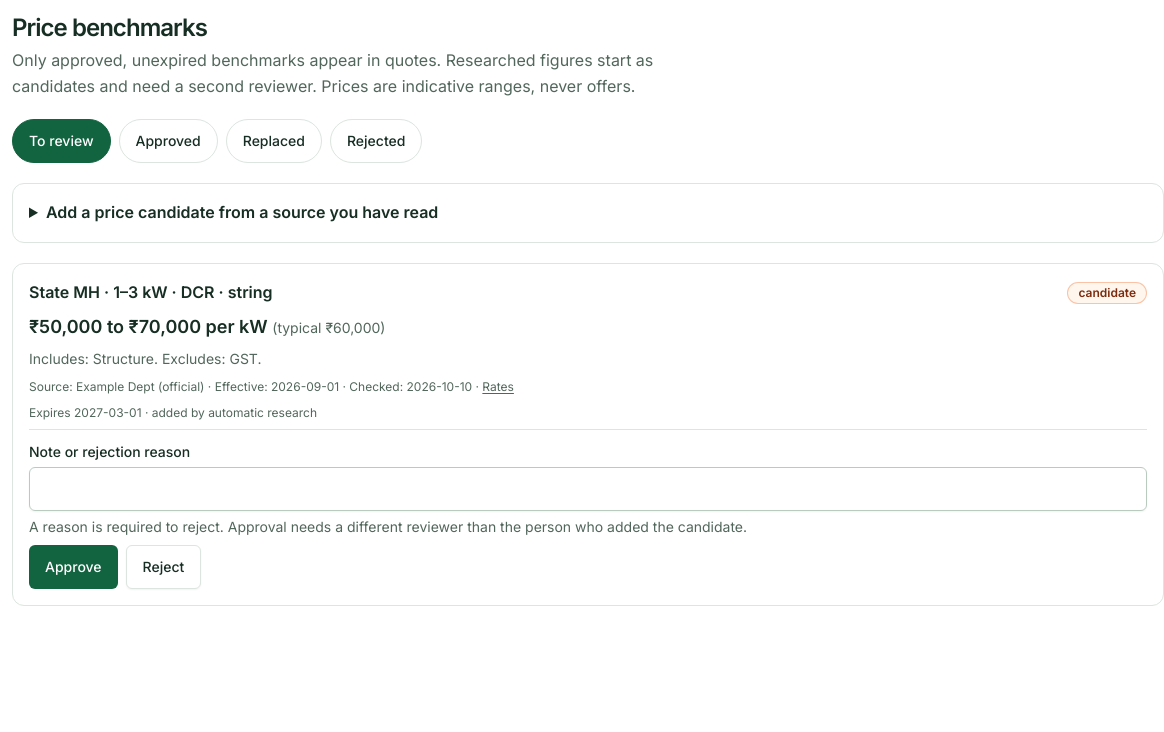
it: price benchmark admin › requires a reason to reject
Step 1. Click the button "Reject" → [163, 567], box [126,545,201,589]
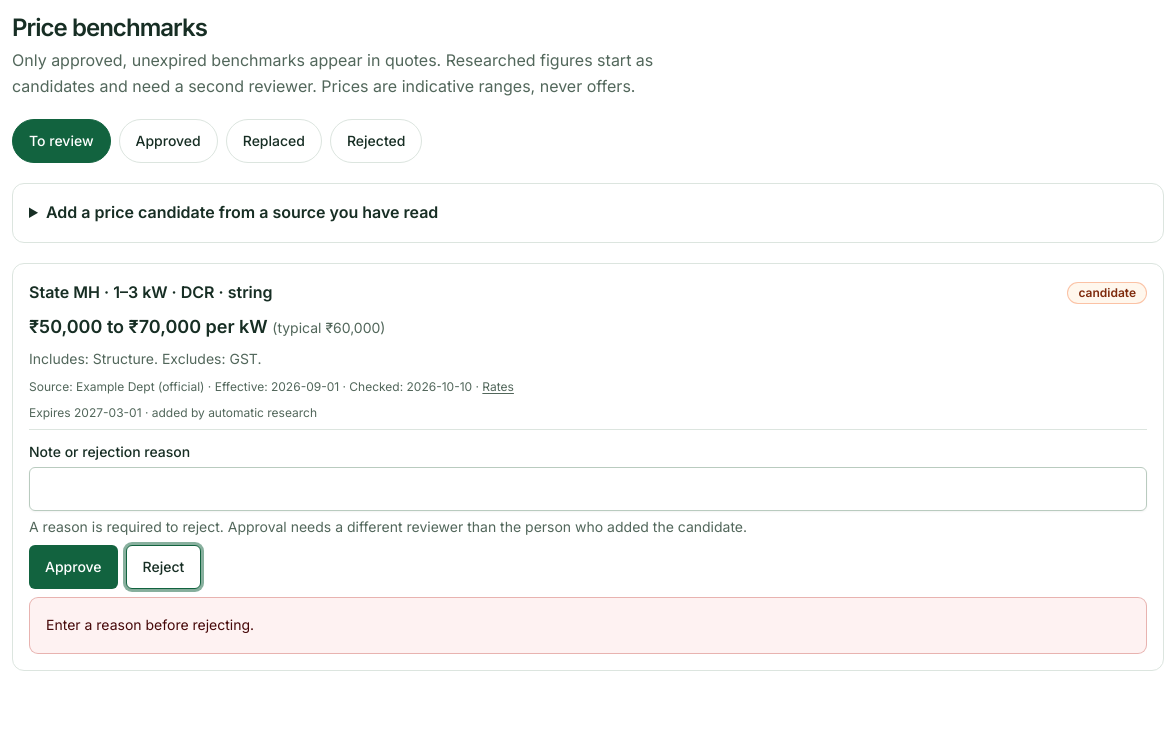
Check: the text "Enter a reason before rejecting." is shown, box [46,616,254,633]
